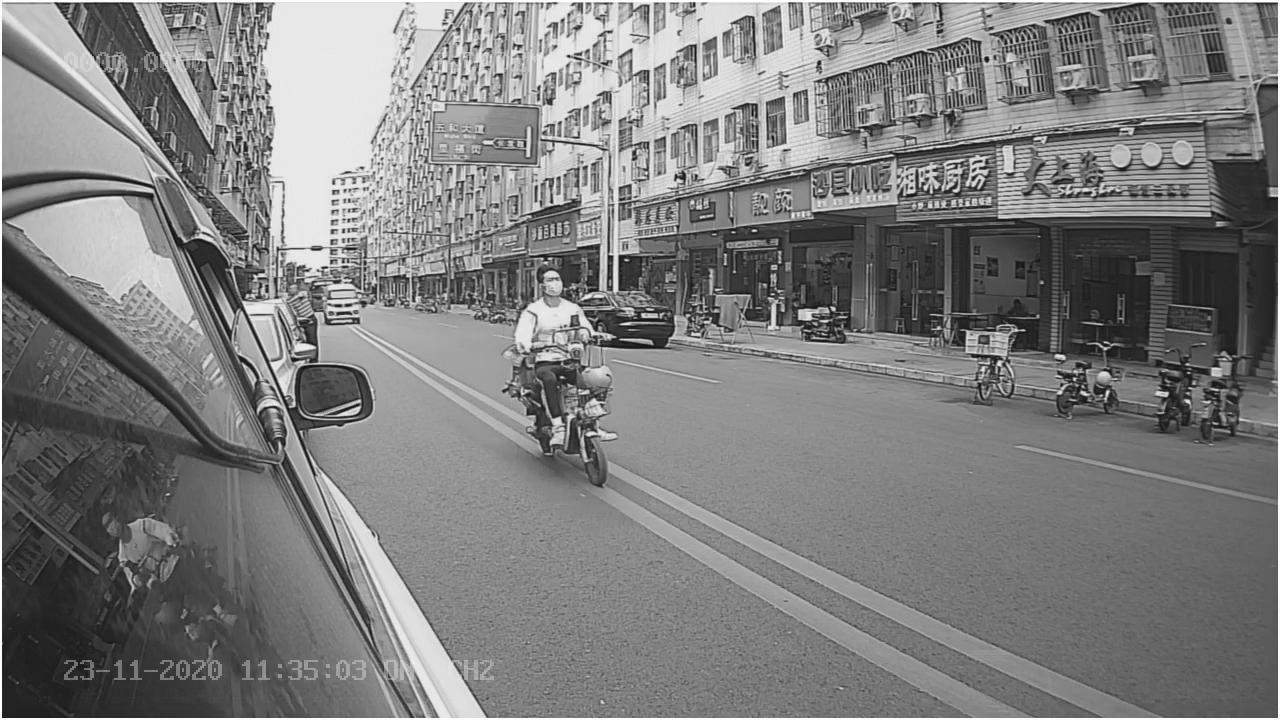person: (515, 257, 600, 356)
